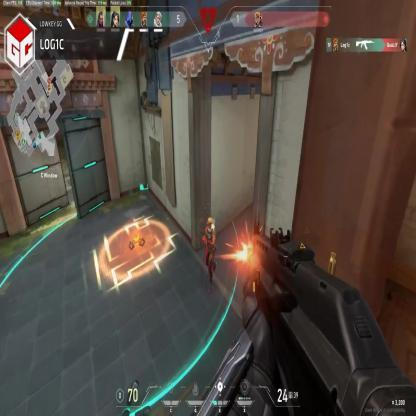enemy: (202, 216, 218, 292)
enemy_head: (207, 218, 212, 230)
